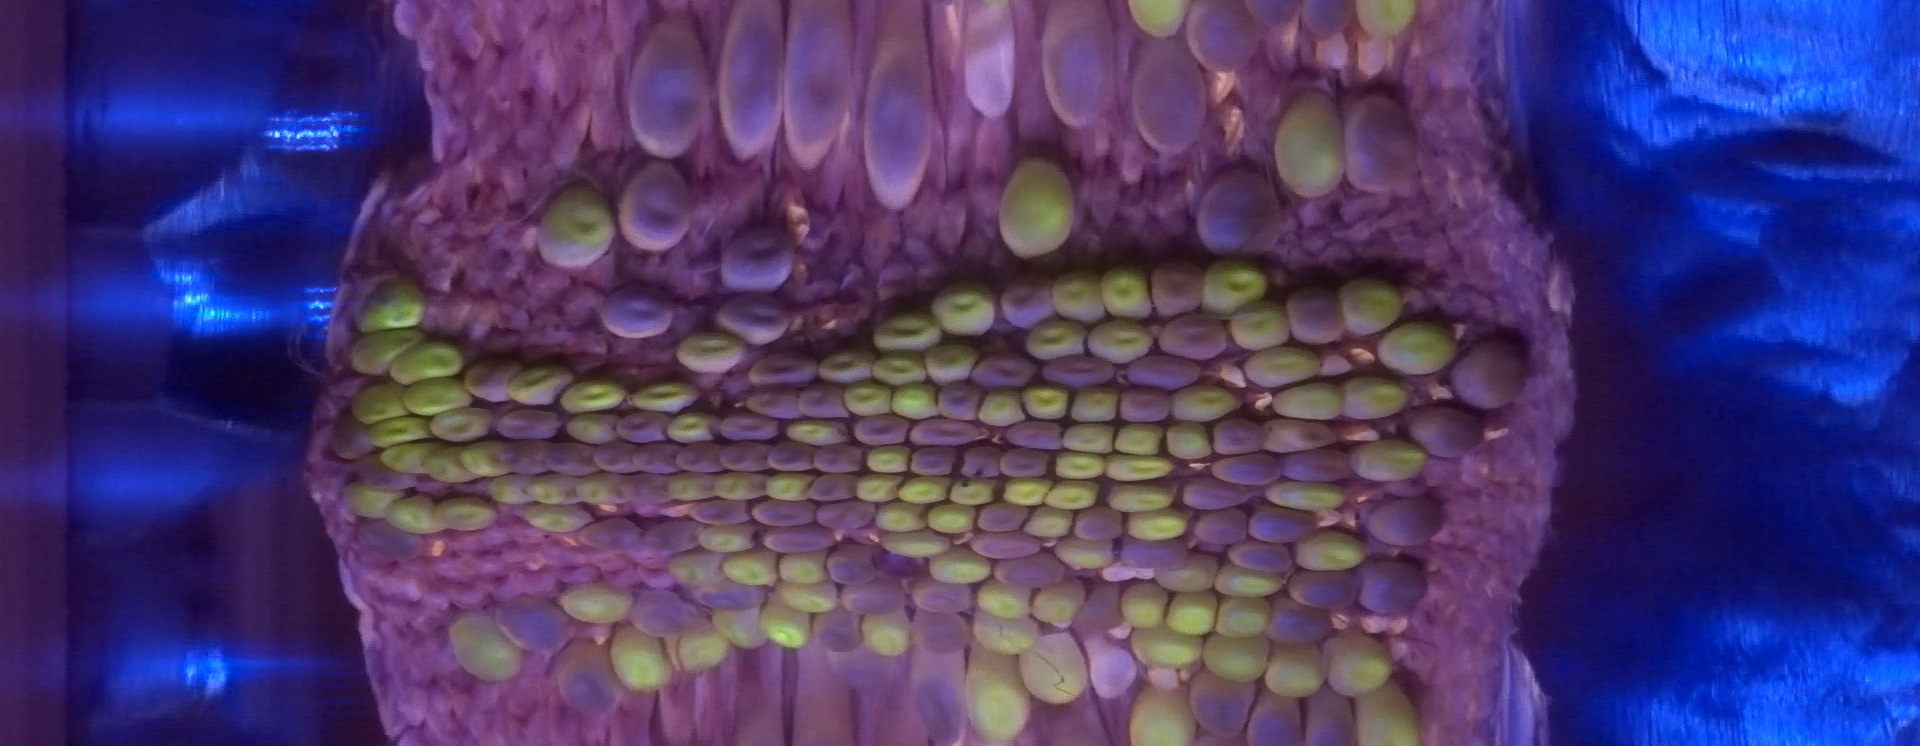fluorescent: (1273, 86, 1349, 202), (994, 158, 1079, 261), (962, 646, 1037, 746), (540, 187, 620, 273), (443, 612, 527, 684), (1024, 633, 1092, 708), (1353, 679, 1425, 746), (1325, 626, 1390, 699), (1202, 254, 1269, 320), (1382, 323, 1458, 379), (615, 627, 675, 695), (1128, 684, 1191, 746), (561, 579, 638, 631), (1349, 435, 1428, 485), (932, 282, 998, 341), (1297, 528, 1371, 577), (349, 327, 422, 376), (1261, 643, 1322, 702), (1344, 277, 1407, 334), (1051, 274, 1114, 331), (672, 333, 749, 379), (1102, 266, 1160, 323), (358, 285, 429, 332), (1204, 638, 1275, 685), (1212, 597, 1284, 642), (1338, 377, 1411, 423), (1229, 299, 1296, 348), (676, 624, 736, 677), (869, 312, 947, 354), (972, 612, 1043, 657), (1129, 632, 1209, 671), (1242, 344, 1324, 382), (1269, 377, 1343, 419), (762, 597, 816, 654), (1082, 322, 1155, 365), (350, 379, 407, 432), (430, 402, 496, 447), (860, 608, 917, 659), (509, 363, 571, 410), (432, 488, 498, 532), (400, 376, 475, 414), (1354, 1, 1417, 47), (713, 605, 771, 653), (394, 341, 463, 381), (1266, 481, 1353, 513), (1218, 565, 1286, 605), (1122, 575, 1171, 630), (1025, 318, 1085, 363), (1031, 579, 1087, 626), (1172, 386, 1240, 424), (380, 439, 446, 478), (774, 578, 841, 616), (560, 374, 624, 413), (932, 549, 997, 588), (1158, 561, 1227, 597), (519, 501, 593, 534), (1164, 592, 1213, 641), (720, 549, 778, 590), (629, 377, 694, 414), (1106, 454, 1177, 488), (364, 414, 440, 445), (1131, 1, 1190, 40), (1043, 478, 1106, 514), (347, 484, 407, 521), (977, 581, 1031, 621), (1122, 514, 1193, 545), (664, 467, 722, 503), (567, 410, 618, 452), (1103, 489, 1177, 517), (873, 352, 936, 385), (460, 439, 508, 481), (929, 342, 977, 385), (778, 548, 831, 586), (1071, 386, 1124, 424), (1056, 540, 1116, 573), (1116, 421, 1164, 462), (696, 522, 757, 554), (1021, 383, 1074, 420), (396, 494, 447, 530), (1029, 506, 1074, 548), (784, 419, 847, 448), (1166, 426, 1213, 465), (571, 469, 623, 505), (882, 534, 954, 560), (818, 349, 872, 383), (891, 385, 942, 421), (841, 380, 891, 416), (864, 443, 916, 479), (900, 475, 953, 510), (485, 472, 534, 508), (764, 467, 813, 503), (429, 445, 470, 488), (672, 549, 722, 584), (1000, 477, 1054, 510), (530, 472, 579, 507), (980, 390, 1024, 429), (711, 472, 767, 502), (1062, 423, 1116, 453), (877, 505, 927, 537), (670, 409, 718, 442), (1058, 454, 1106, 488), (929, 503, 973, 538), (953, 477, 998, 506), (856, 473, 899, 503)
nonfluorescent: (862, 4, 934, 212), (787, 2, 851, 167), (719, 6, 782, 154), (1041, 2, 1114, 127), (629, 31, 702, 156), (1133, 38, 1207, 149), (1338, 96, 1416, 195), (1193, 171, 1278, 256), (617, 160, 688, 254), (1187, 1, 1258, 77), (1450, 338, 1523, 409), (718, 228, 793, 293), (912, 661, 967, 746), (1187, 666, 1253, 735), (495, 592, 568, 653), (593, 287, 673, 342), (558, 649, 621, 717), (1409, 403, 1487, 457), (715, 293, 789, 349), (1368, 495, 1444, 545), (823, 653, 900, 702), (1364, 552, 1427, 611), (350, 519, 424, 565), (1298, 688, 1358, 744), (1158, 314, 1228, 360), (1269, 592, 1330, 644), (1070, 579, 1124, 638), (1284, 292, 1343, 344), (1000, 277, 1054, 333), (632, 588, 693, 637), (1242, 693, 1304, 741), (1291, 566, 1357, 609), (1120, 356, 1202, 388), (1149, 263, 1199, 315), (1117, 530, 1182, 570), (1038, 355, 1114, 388), (1282, 448, 1351, 484), (1247, 506, 1315, 541), (996, 552, 1065, 587), (1226, 537, 1291, 573), (467, 359, 520, 403), (1182, 477, 1250, 510), (969, 529, 1036, 562), (358, 453, 415, 491), (907, 420, 983, 448), (700, 576, 759, 611), (643, 517, 699, 554), (966, 355, 1031, 387), (764, 521, 829, 552), (1116, 388, 1173, 424), (813, 608, 862, 649), (1194, 510, 1249, 546), (842, 576, 901, 610), (912, 579, 969, 615), (913, 610, 962, 650), (331, 410, 370, 461), (748, 356, 817, 385), (809, 441, 863, 477), (1071, 506, 1125, 541), (549, 440, 599, 478), (744, 385, 800, 419), (500, 439, 549, 477), (767, 439, 816, 477), (1207, 454, 1280, 480), (1303, 1, 1349, 40), (718, 441, 773, 474), (936, 381, 983, 419), (1213, 419, 1262, 456), (958, 441, 1000, 481), (828, 548, 872, 587), (576, 516, 632, 546), (684, 499, 747, 526), (620, 410, 670, 443), (618, 472, 669, 505), (498, 409, 560, 436), (994, 448, 1048, 479), (797, 382, 845, 416), (675, 441, 724, 474), (816, 501, 876, 528), (807, 470, 857, 502), (719, 415, 779, 441), (752, 499, 818, 522), (594, 440, 639, 473), (634, 442, 680, 475), (1007, 423, 1062, 450), (973, 503, 1029, 530), (856, 413, 905, 442), (909, 447, 958, 474), (1243, 1, 1297, 23)
